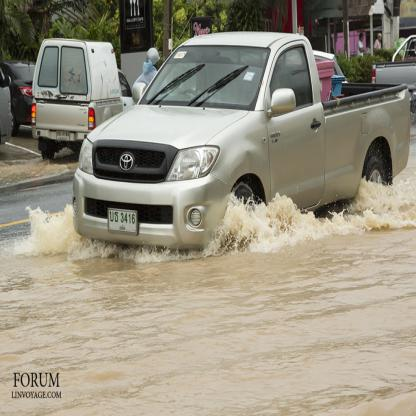Car: (0, 60, 36, 137)
Truck: (72, 10, 411, 252), (371, 35, 415, 126)
